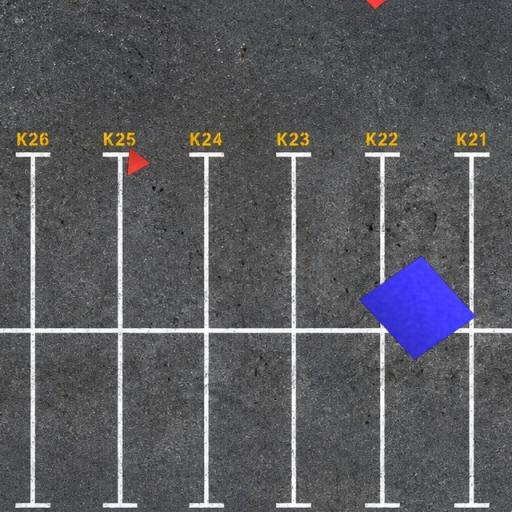BLUE_SQUARE: (358, 255, 477, 361)
